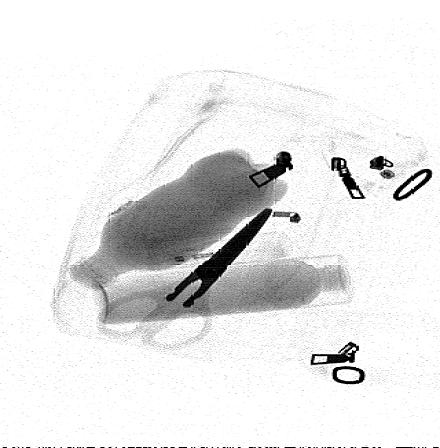Scissors: (88, 205, 279, 351)
